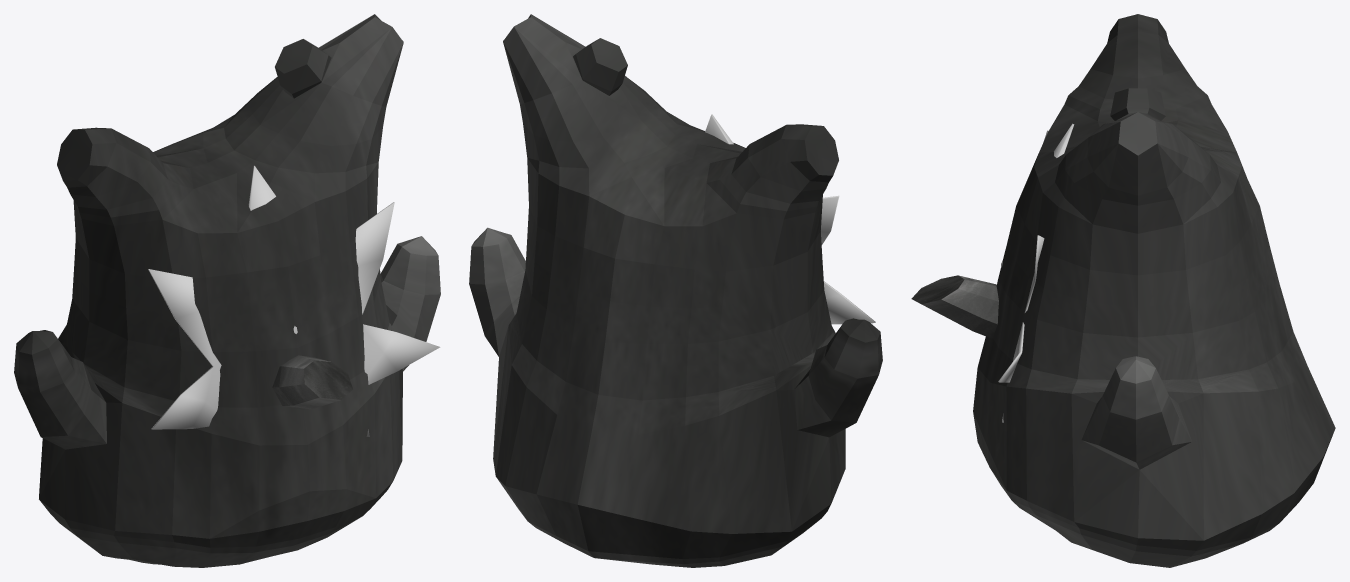
Rendered from frame_0066.obj.
The picture shows the model from 3 angles, left to right: view 1: azimuth 30°, elevation 25°; view 2: azimuth 150°, elevation 25°; view 3: azimuth 270°, elevation 25°; orthographic projection. The views are drawn at different scales.
Visible parts, largest first — view 1: korok, leaf.003_柱体.013, nose.003_柱体.011; view 2: korok, leaf.003_柱体.013; view 3: korok, nose.003_柱体.011, leaf.003_柱体.013.
Boxes of the visible parts, <box> form: korok: <box>14,14,440,567</box>; leaf.003_柱体.013: <box>148,165,440,436</box>; nose.003_柱体.011: <box>272,355,352,409</box>; korok: <box>469,14,882,567</box>; leaf.003_柱体.013: <box>705,114,875,324</box>; korok: <box>973,14,1335,567</box>; nose.003_柱体.011: <box>911,275,998,338</box>; leaf.003_柱体.013: <box>998,123,1074,422</box>.
Bounding box in the file's own units: 1.53 × 1.72 × 1.36.
